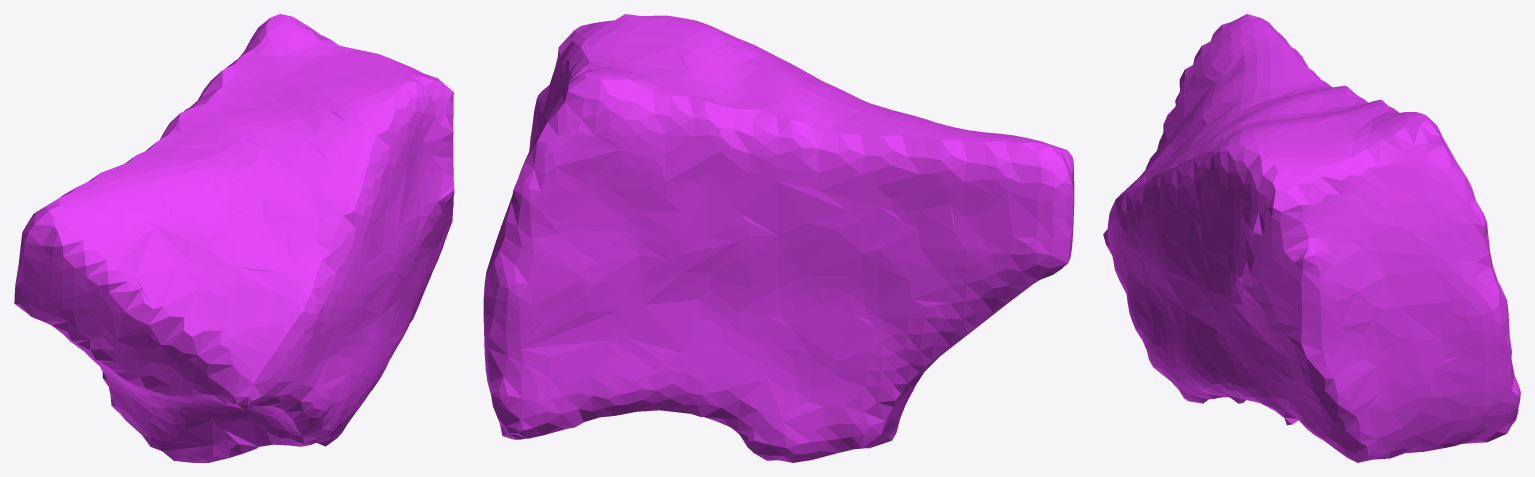
File: Model_10044_LH__Area_11_of_cortex_(A11).obj
3 views of the same model, side by side, from view 1: azimuth 30°, elevation 25°; view 2: azimuth 150°, elevation 25°; view 3: azimuth 270°, elevation 25° (orthographic). The views are drawn at different scales.
Bounding box in the file's own units: 3.09 × 2.2 × 2.48.
